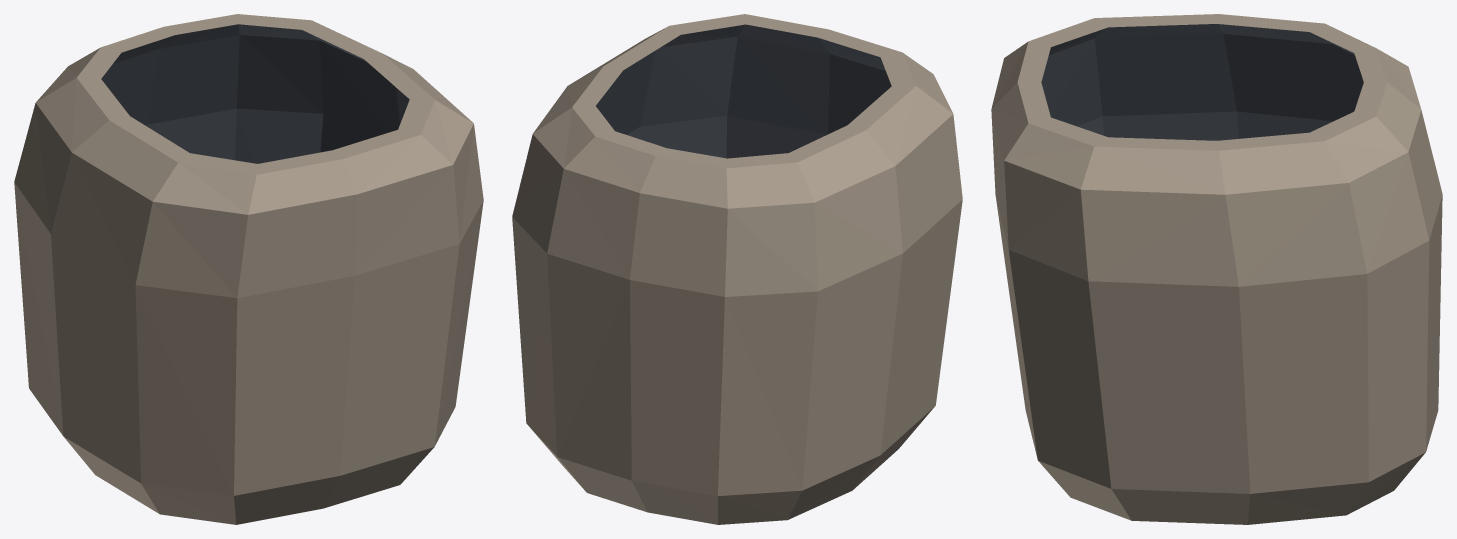
File: thigh_medium.glb
The picture shows the model from 3 angles, left to right: view 1: azimuth 30°, elevation 25°; view 2: azimuth 150°, elevation 25°; view 3: azimuth 270°, elevation 25°; orthographic projection. The views are drawn at different scales.
Parts seen in each view (by area): view 1: thigh_medium; view 2: thigh_medium; view 3: thigh_medium.
Boxes of the visible parts, <box> form: thigh_medium: <box>14,14,483,524</box>; thigh_medium: <box>512,14,962,524</box>; thigh_medium: <box>991,14,1442,524</box>.
Bounding box in the file's own units: 1.03 × 0.97 × 1.06.
